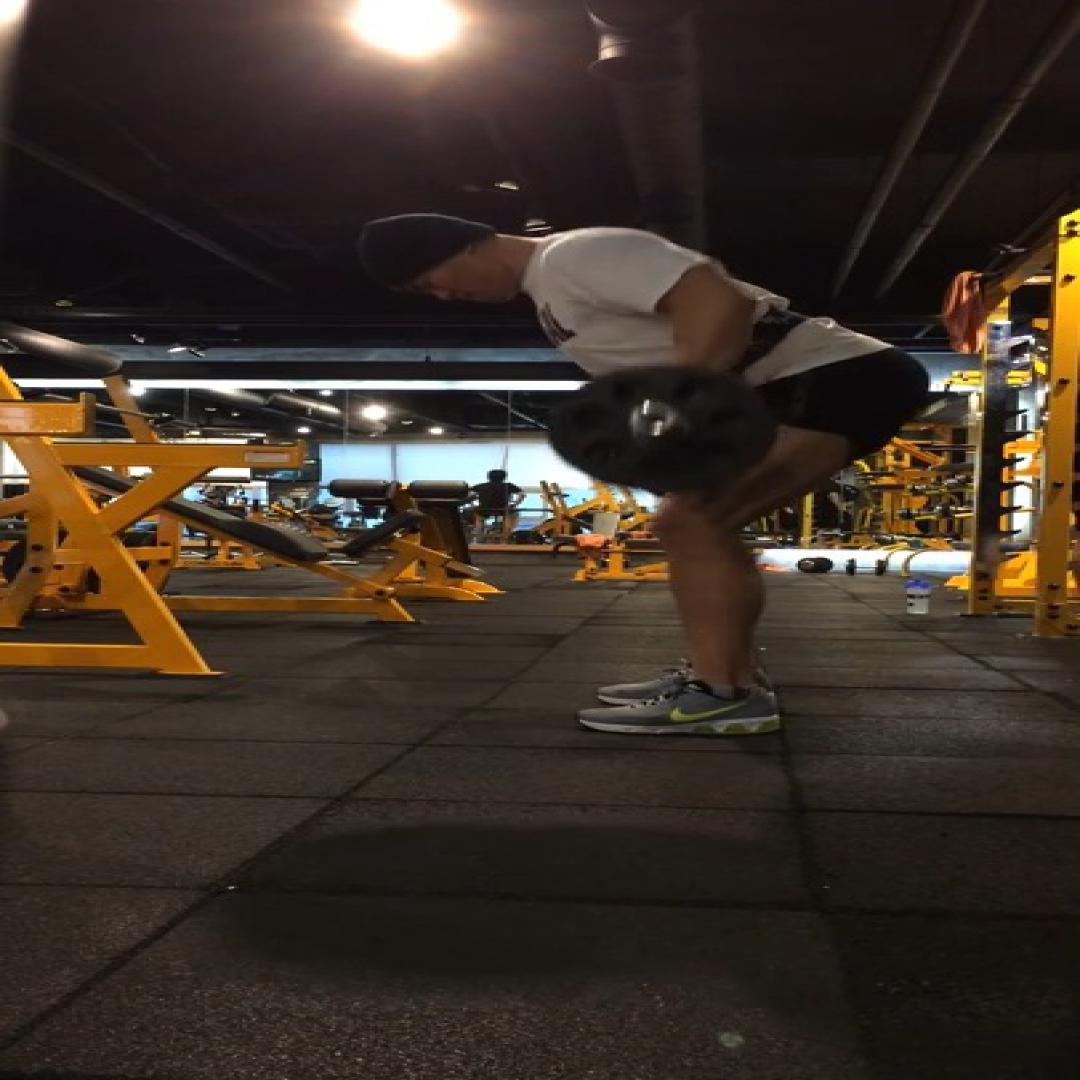Bar: (628, 400, 683, 438)
Barbell: (546, 364, 780, 490)
